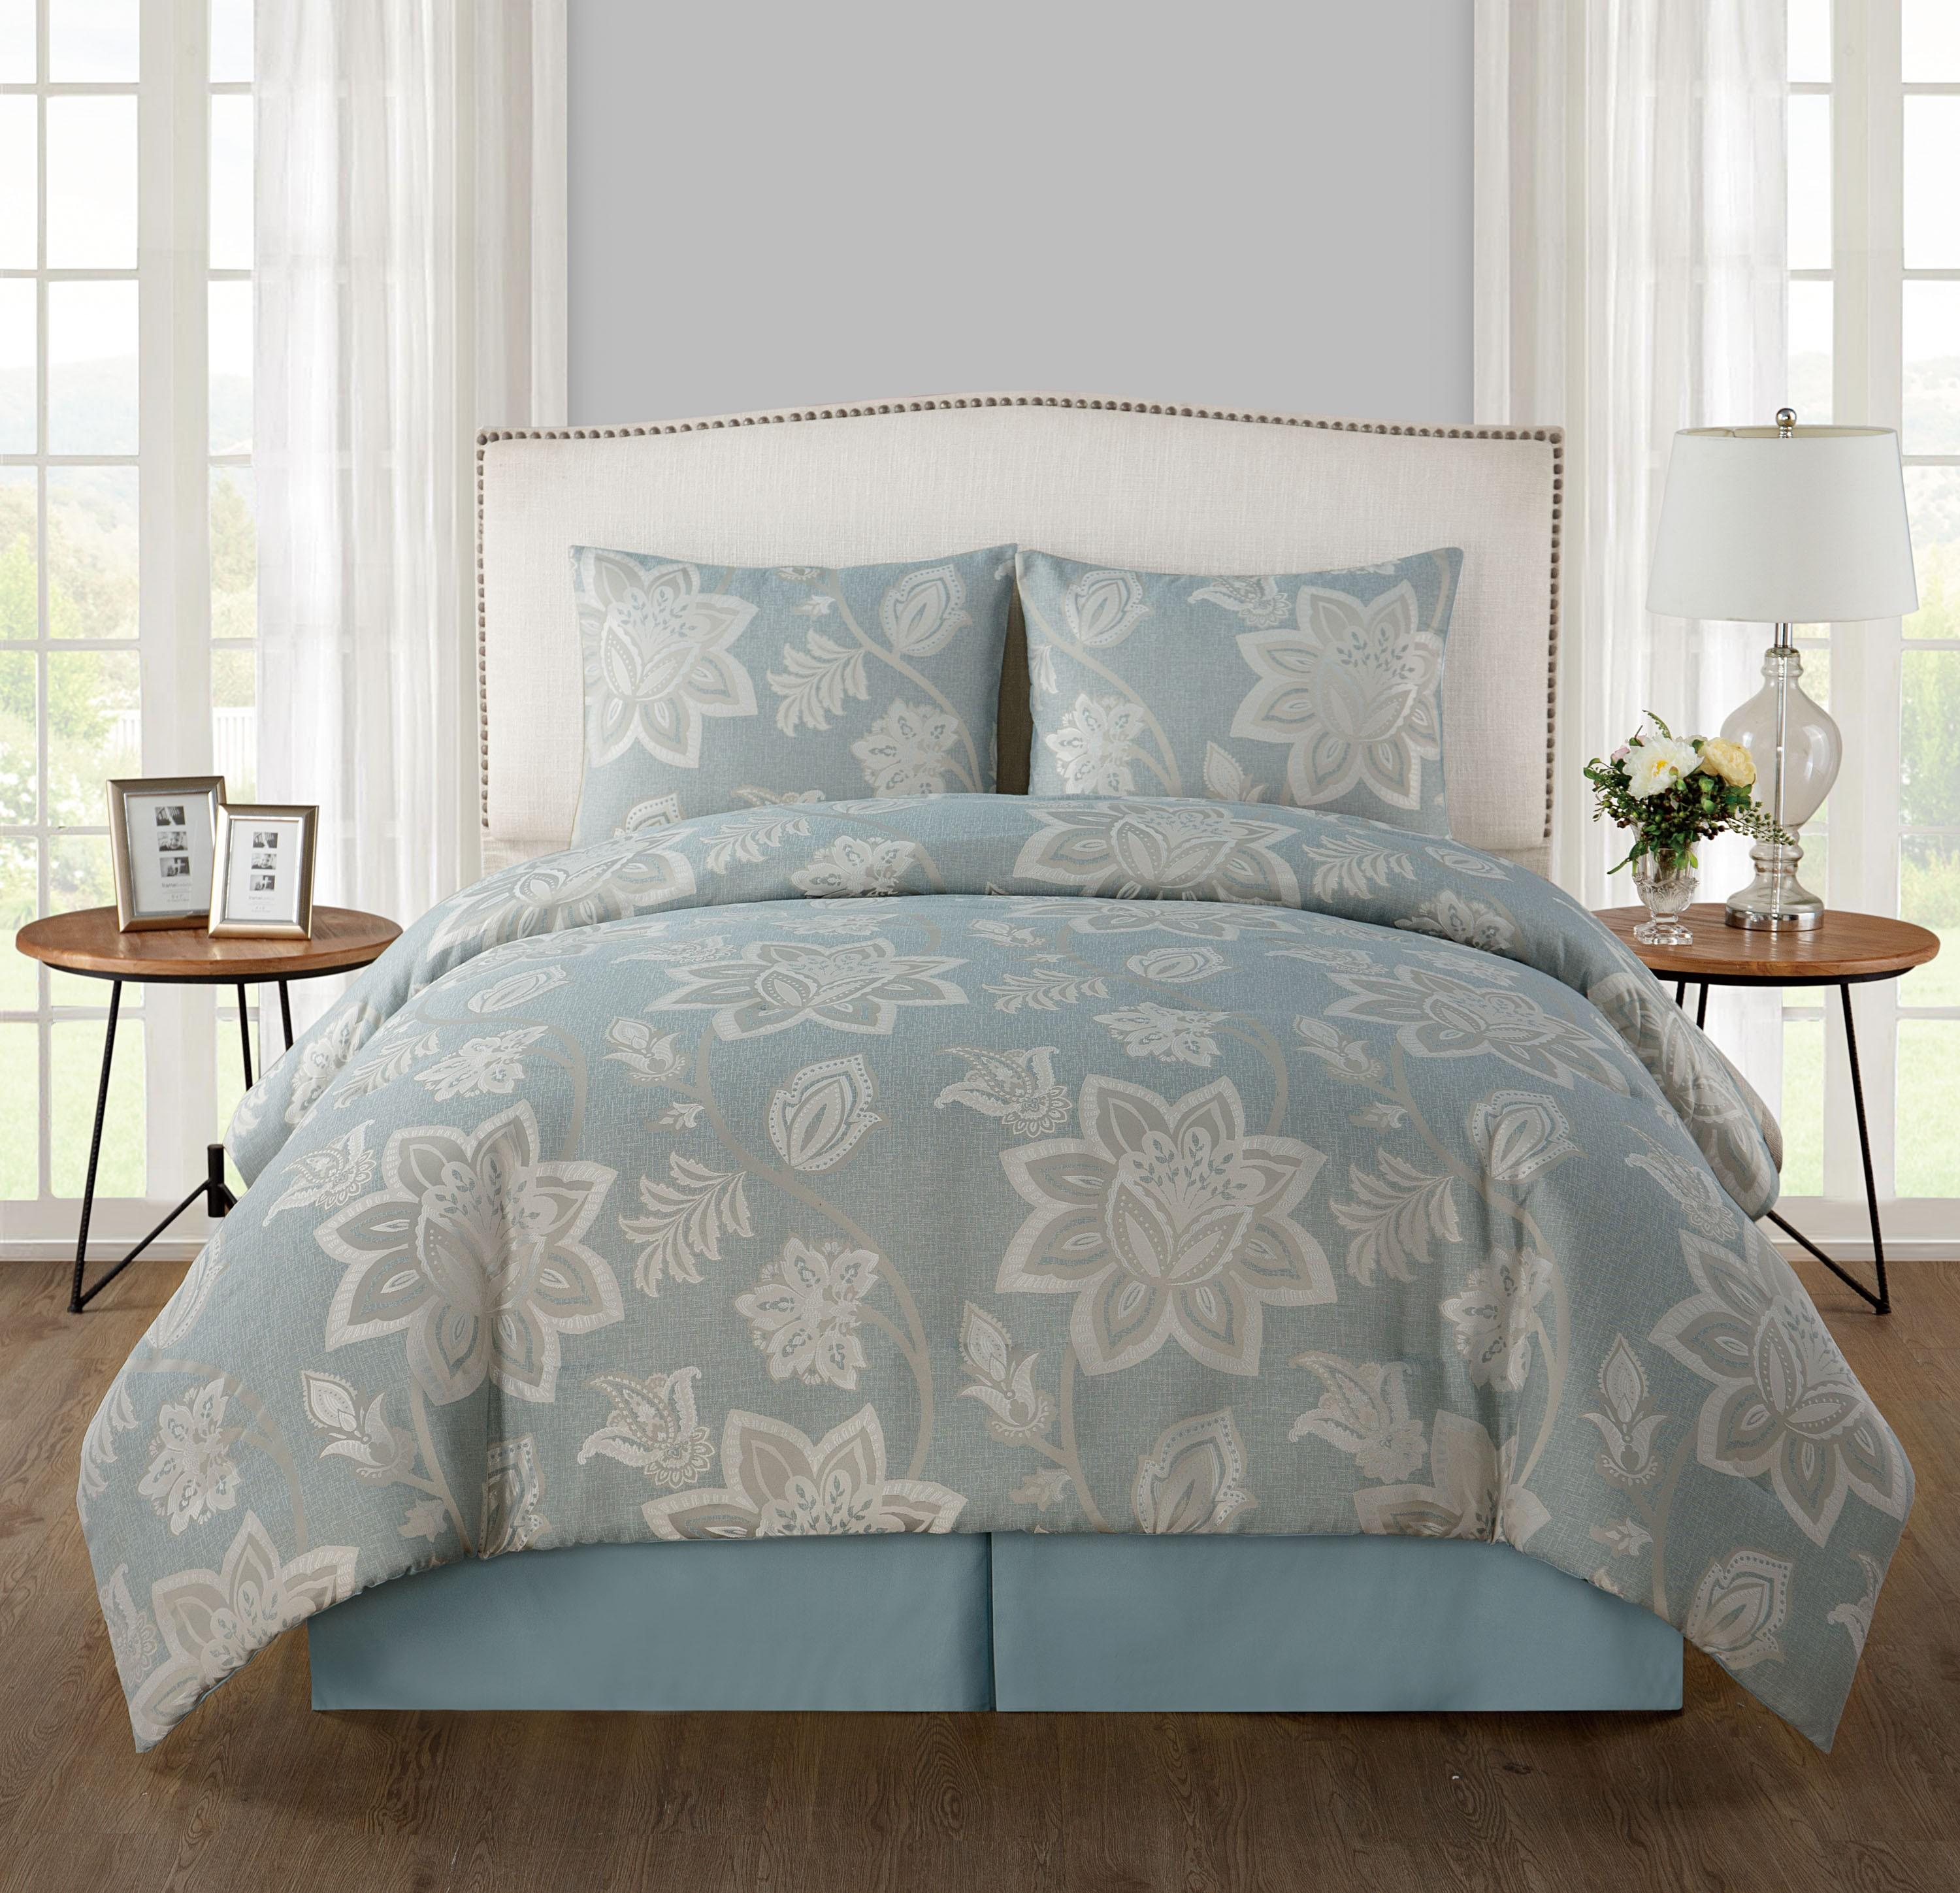bed: (429, 415, 1727, 1802)
